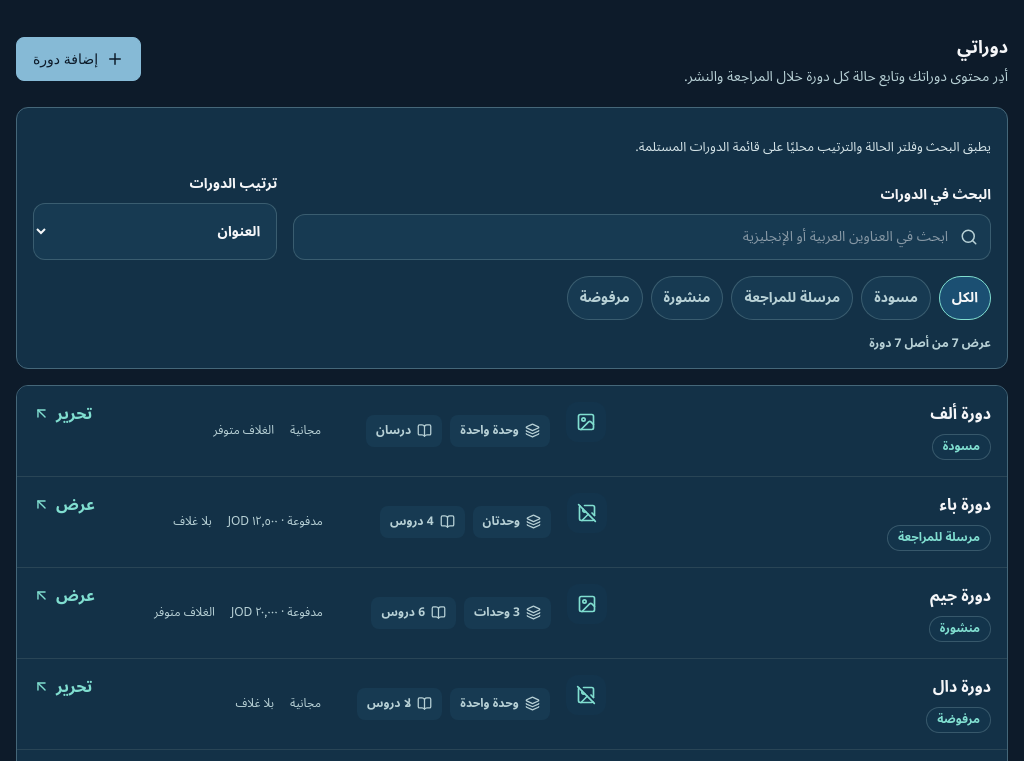
Test: TeacherCoursesManagement › searches English titles from the Arabic interface
This screenshot has width=1024, height=761.
expect the heading "دورة ألف" is shown: met, box [930,402,991,426]
In the search field labelled "البحث في الدورات": [629, 237] box [306,215,952,259], type "gamma"
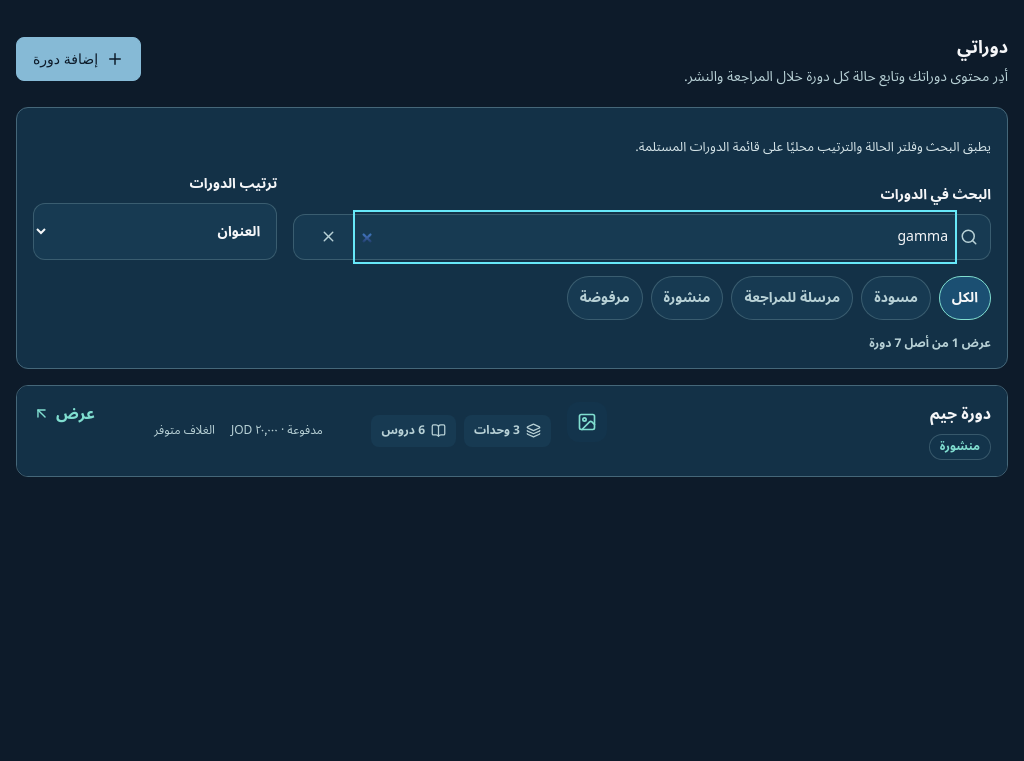
expect the heading "دورة جيم" is shown: met, box [929,402,991,426]
expect the link "دورة ألف" is gone: met
